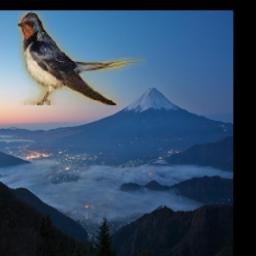Swallow: (19, 12, 148, 106)
